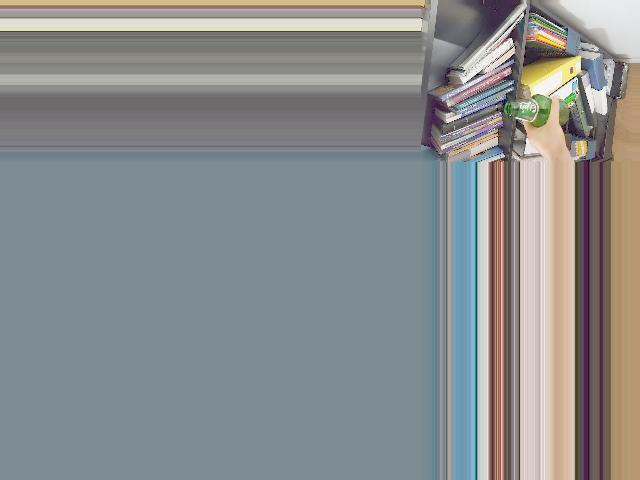beer: (505, 95, 570, 126)
